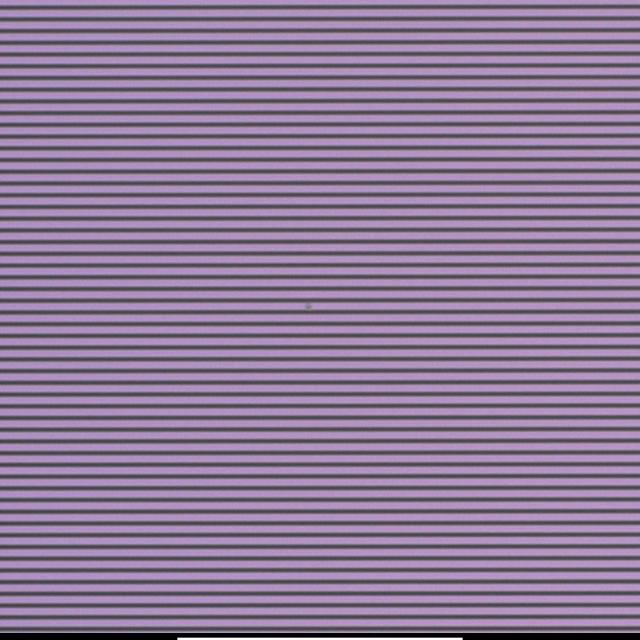nonvisual: (302, 300, 314, 312)
